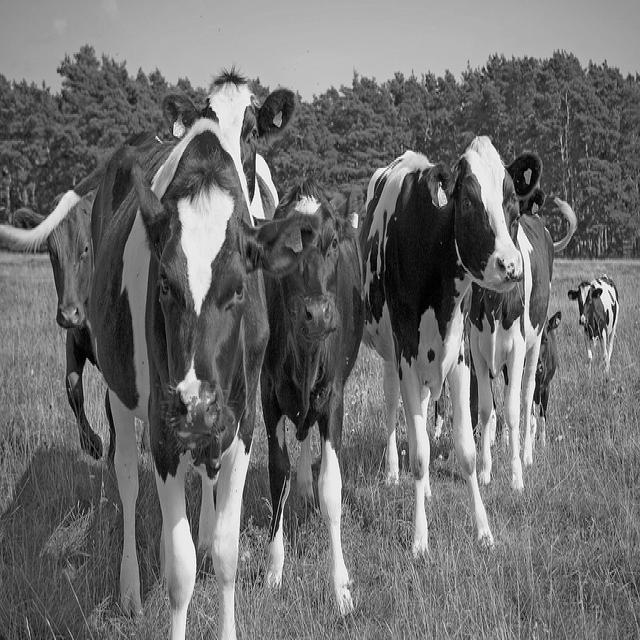cow: (0, 122, 316, 630), (362, 125, 541, 558), (258, 176, 363, 621), (463, 190, 576, 488), (10, 189, 101, 453), (161, 71, 295, 230), (566, 273, 619, 379), (531, 307, 560, 420)
